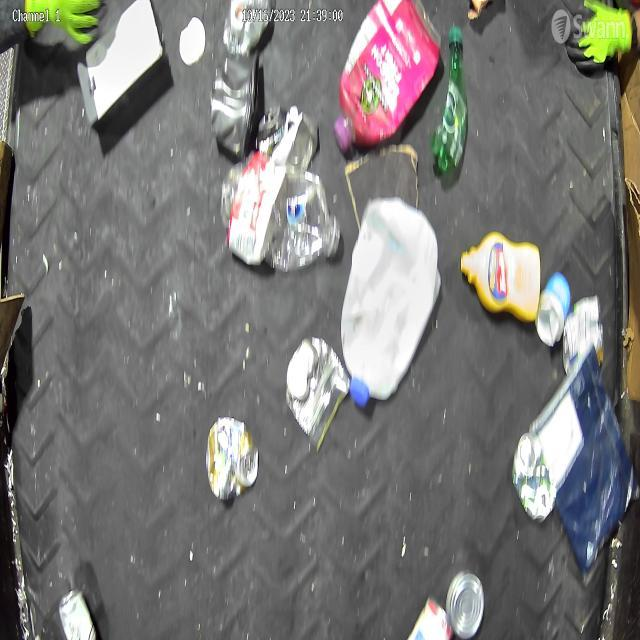can: (285, 335, 352, 454), (204, 414, 260, 502), (511, 429, 558, 525), (562, 292, 606, 379), (446, 568, 486, 640), (534, 268, 570, 348), (406, 592, 454, 640), (58, 584, 98, 640)
milk_jug: (340, 194, 442, 409)
plastic_bottle: (220, 150, 342, 274)
